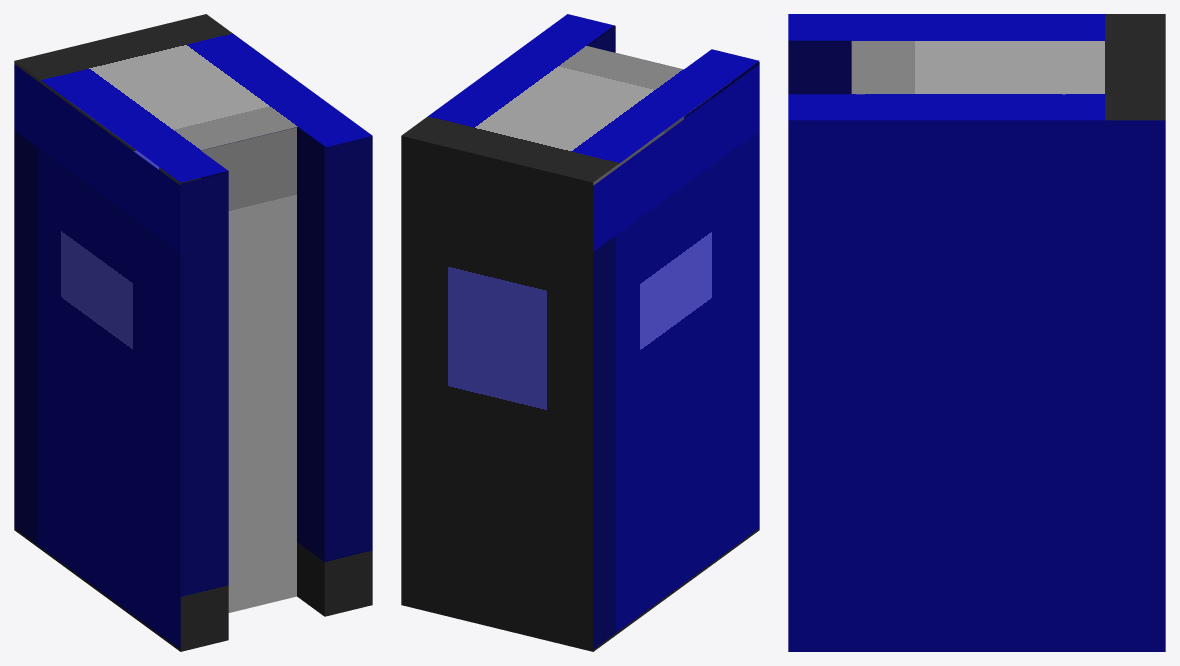
The model's file is book_0x282_17.obj.
3 views of the same model, side by side, from view 1: azimuth 30°, elevation 25°; view 2: azimuth 150°, elevation 25°; view 3: azimuth 270°, elevation 25° (orthographic). The views are drawn at different scales.
Parts seen in each view (by area): view 1: Cube.001; view 2: Cube.001; view 3: Cube.001.
Boxes of the visible parts, bbox=[...] form: Cube.001: bbox=[14, 14, 372, 651]; Cube.001: bbox=[401, 14, 759, 651]; Cube.001: bbox=[788, 14, 1165, 651].
Bounding box in the file's own units: 0.25 × 0.5833 × 0.375.
